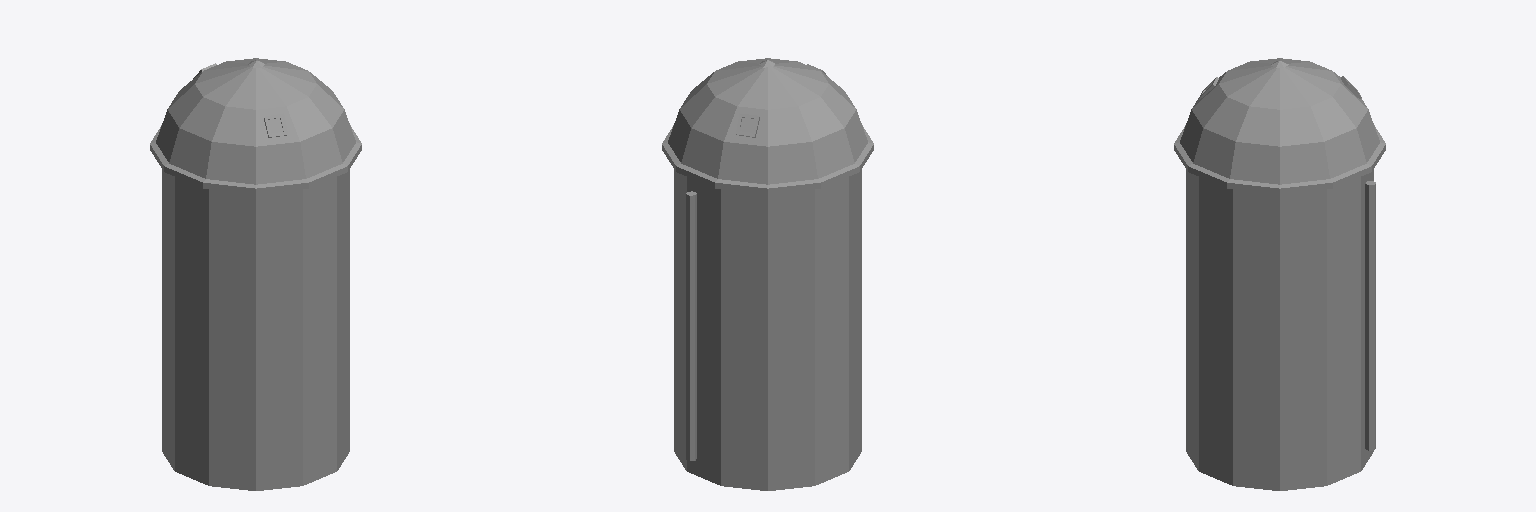
Rendered from farm_silo_01.obj.
3 renders of one model, left to right at view 1: azimuth 30°, elevation 25°; view 2: azimuth 150°, elevation 25°; view 3: azimuth 270°, elevation 25°, orthographic.
Visible parts, largest first — view 1: farm_silo_farm_silo_mesh; view 2: farm_silo_farm_silo_mesh; view 3: farm_silo_farm_silo_mesh.
Part boxes in pixels (x1,y1,x2,y2): farm_silo_farm_silo_mesh: (150, 58, 361, 490); farm_silo_farm_silo_mesh: (662, 58, 873, 490); farm_silo_farm_silo_mesh: (1174, 58, 1385, 490).
Bounding box in the file's own units: 1.73 × 3.52 × 1.73.